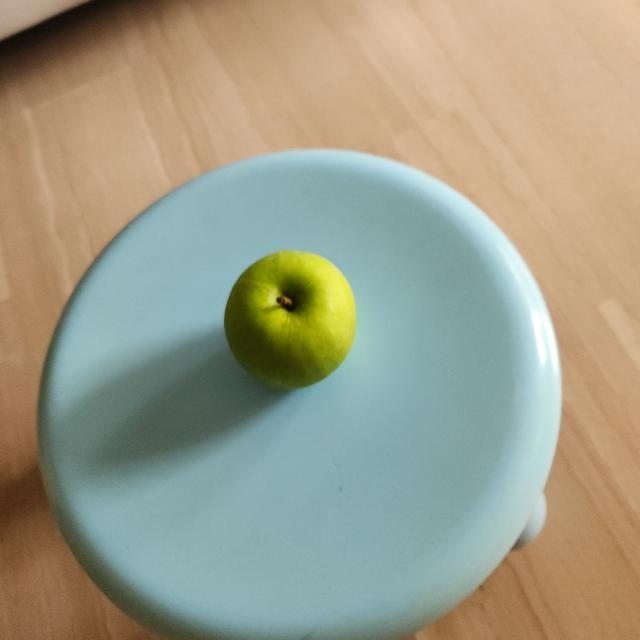apple: (220, 244, 364, 396)
